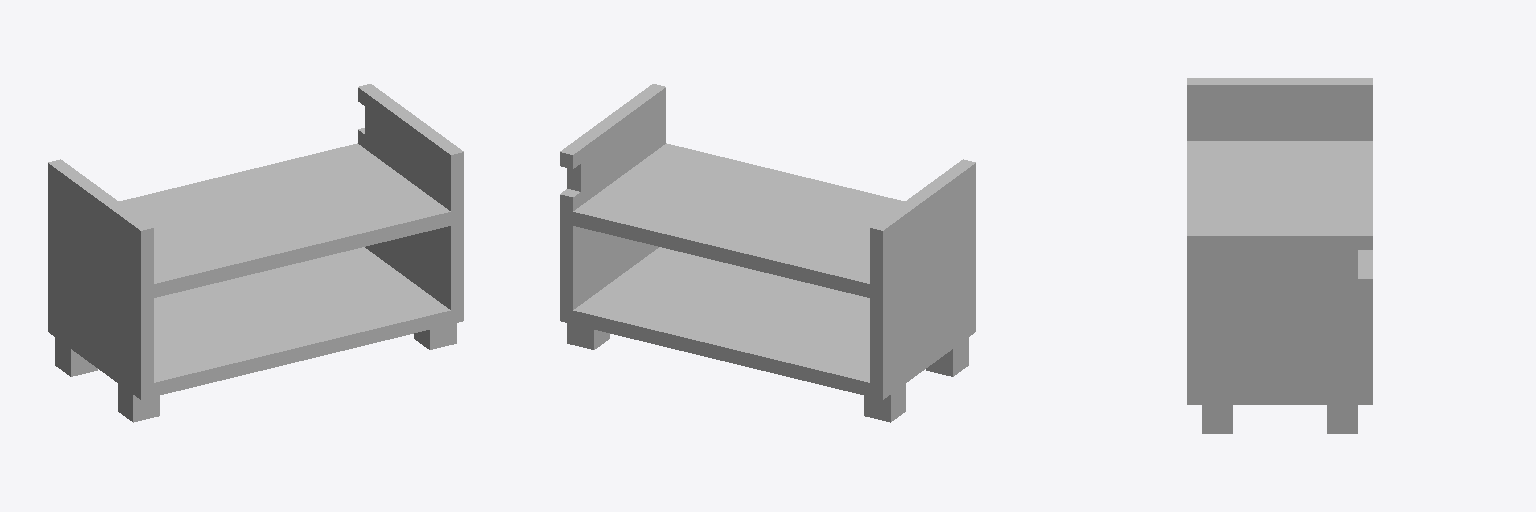
Rendered from gold cart-2.obj.
The picture shows the model from 3 angles: view 1: azimuth 30°, elevation 25°; view 2: azimuth 150°, elevation 25°; view 3: azimuth 270°, elevation 25°; orthographic projection.
Parts seen in each view (by area): view 1: gold cart-2; view 2: gold cart-2; view 3: gold cart-2.
Boxes of the visible parts, x1=… form: gold cart-2: x1=48, y1=84, x2=463, y2=422; gold cart-2: x1=560, y1=84, x2=975, y2=422; gold cart-2: x1=1187, y1=78, x2=1372, y2=433.
Bounding box in the file's own units: 24 × 14 × 12.